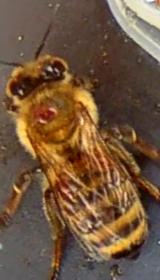varroa_mite: (23, 98, 62, 128)
